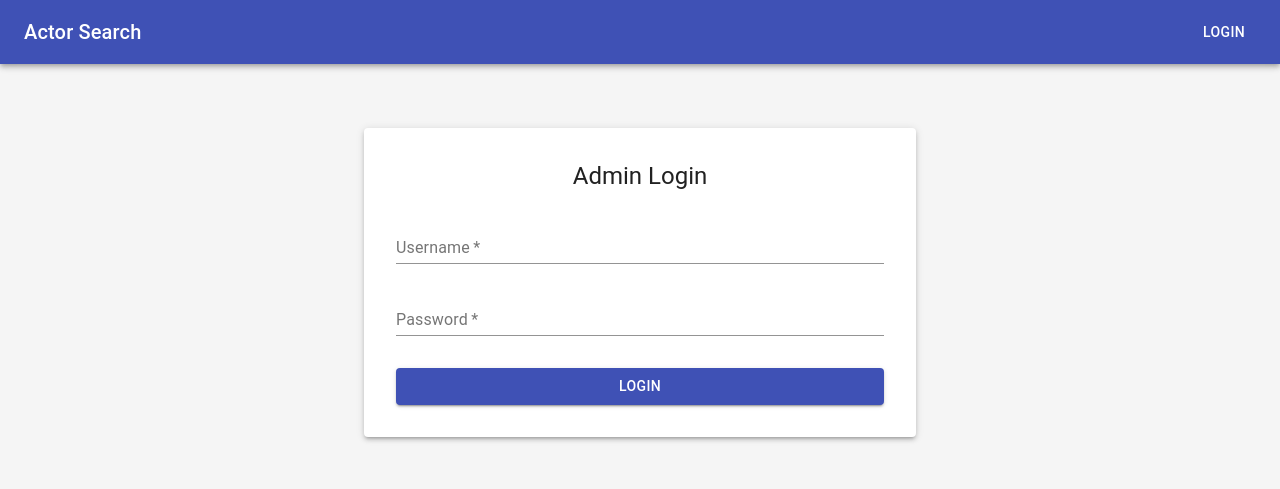
Test: Authentication Flow › shows error with incorrect credentials
In the field named "username": (640, 248) [396,232,884,264], type "wrong"
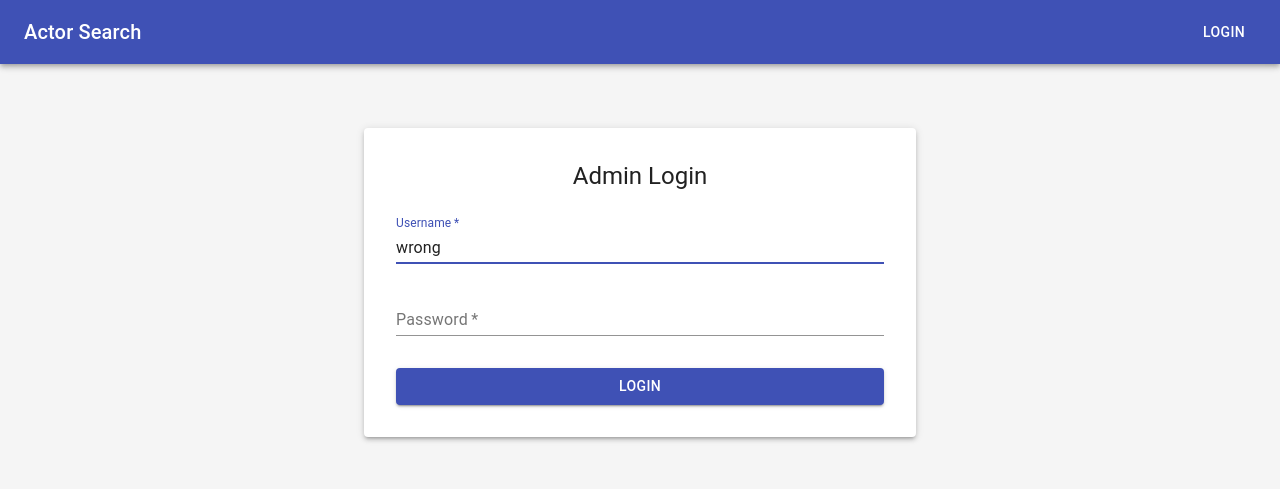
In the password field named "password": (640, 320) [396,304,884,336], type "wrong"
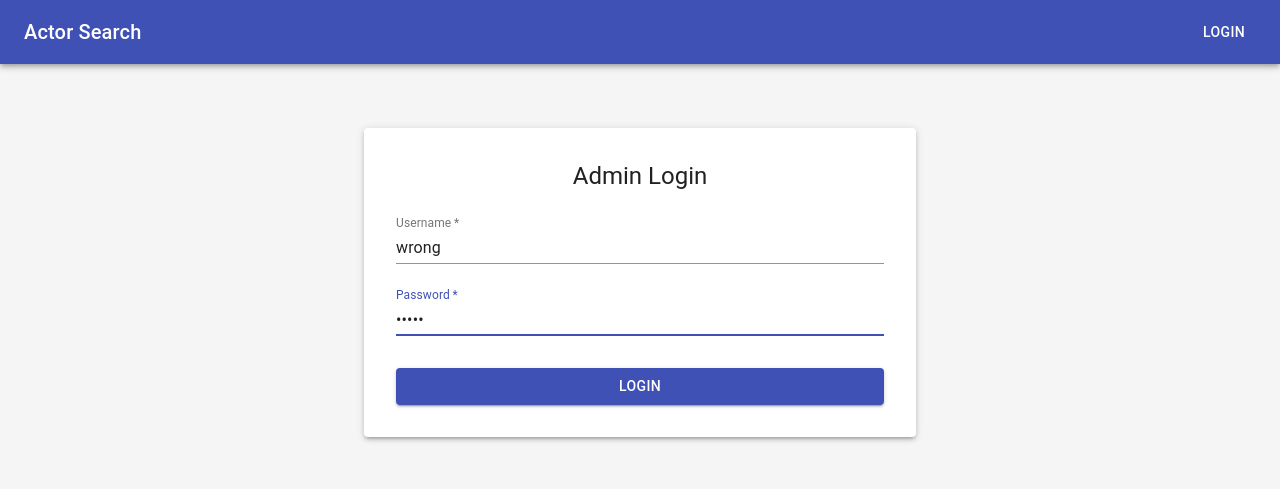
Click the submit button: (640, 387) [396,368,884,405]
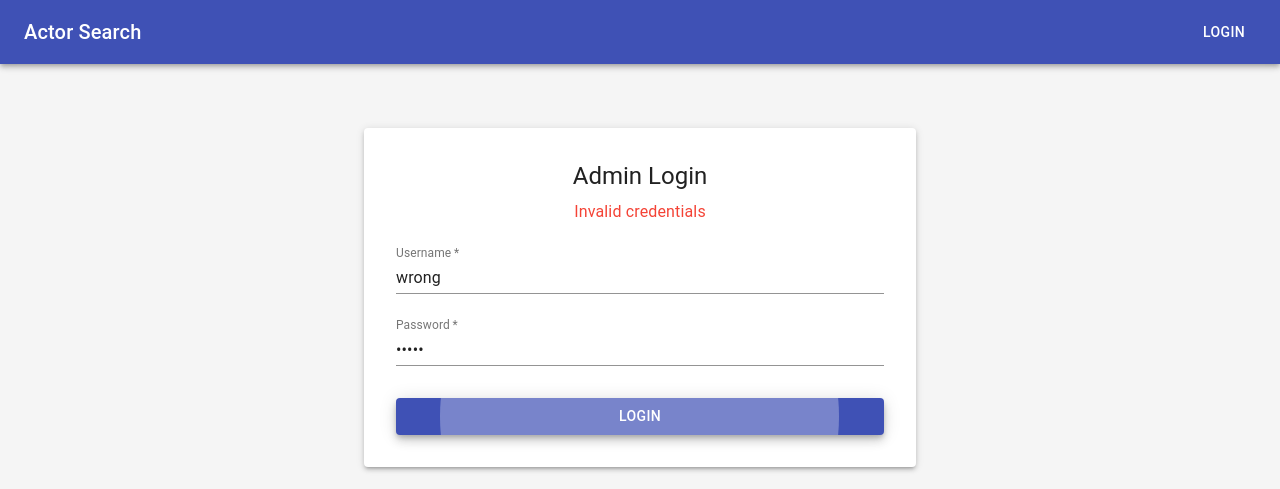
Now the text "Invalid credentials" is shown, box [574,202,706,221]
